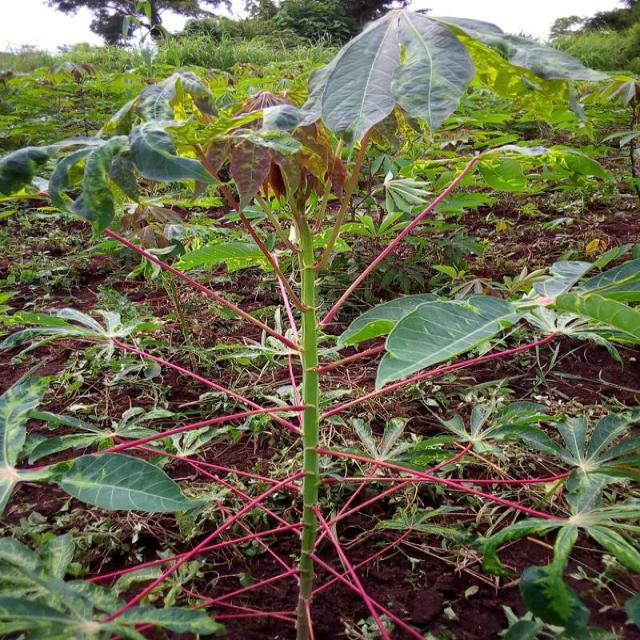cassava leaf: (311, 6, 477, 150), (374, 292, 524, 391), (58, 450, 212, 514)
